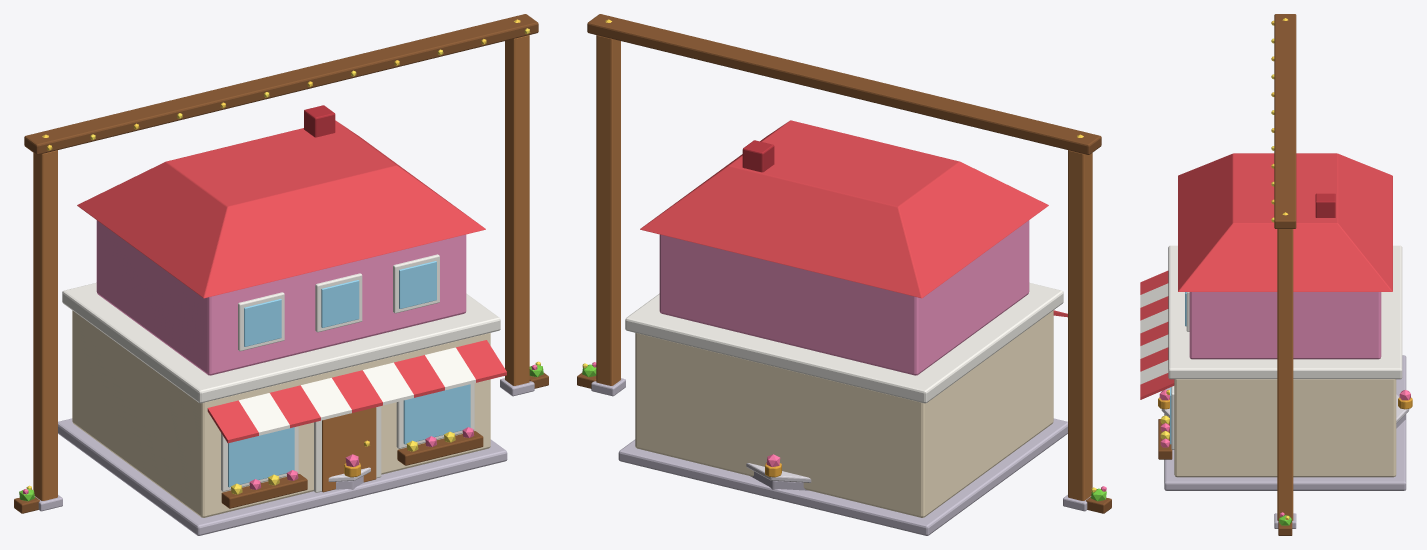
File: LobbyProps.fbx
The picture shows the model from 3 angles, left to right: view 1: azimuth 30°, elevation 25°; view 2: azimuth 150°, elevation 25°; view 3: azimuth 270°, elevation 25°; orthographic projection. The views are drawn at different scales.
Parts seen in each view (by area): view 1: Lobby_Shop, Lobby_SignBig, Lobby_Fountain; view 2: Lobby_Shop, Lobby_SignBig, Lobby_Fountain; view 3: Lobby_Shop, Lobby_SignBig, Lobby_Fountain.
Boxes of the visible parts, box(x1,y1,x2,y2) form: Lobby_Shop: box(58, 105, 507, 535); Lobby_SignBig: box(14, 14, 548, 513); Lobby_Fountain: box(328, 454, 370, 498); Lobby_Shop: box(618, 120, 1067, 535); Lobby_SignBig: box(577, 14, 1111, 513); Lobby_Fountain: box(746, 454, 811, 498); Lobby_Shop: box(1140, 153, 1406, 490); Lobby_SignBig: box(1271, 14, 1296, 535); Lobby_Fountain: box(1158, 390, 1412, 428).
Size of the model in its own units: 51 by 34.22 by 27.03.
1 material, 1 textured.
